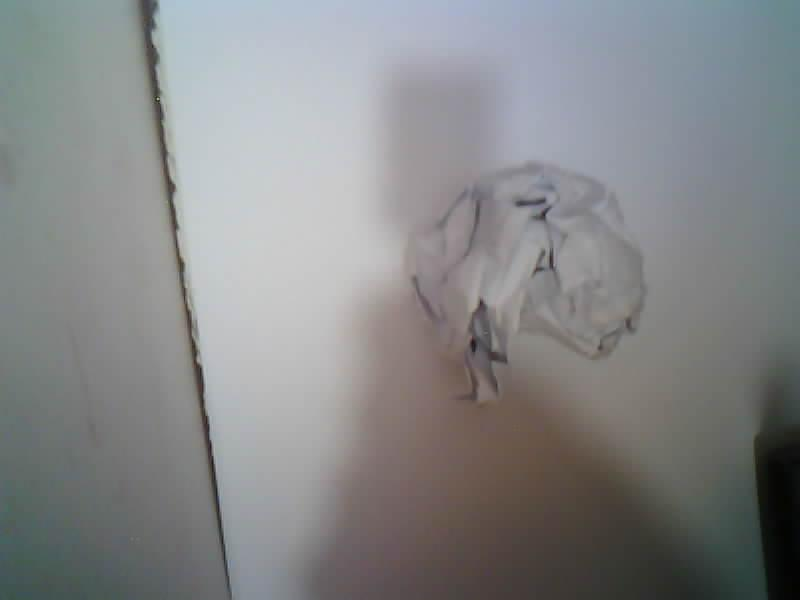biodegradable: (407, 162, 645, 402)
